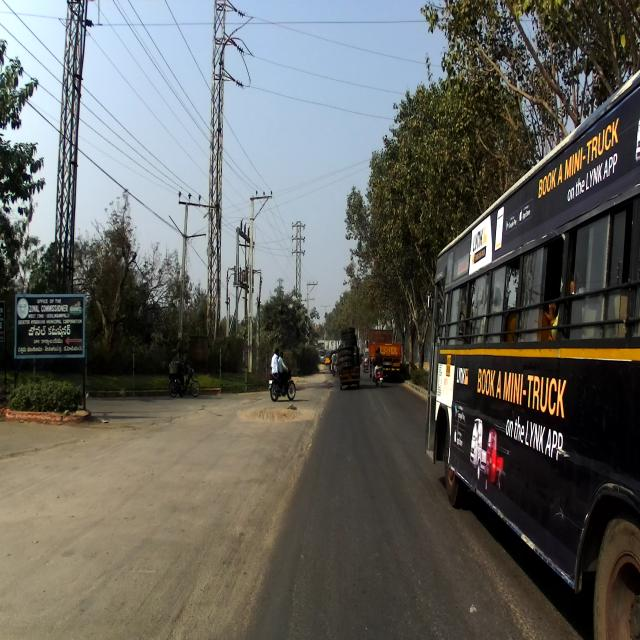bus ahead at: (420, 66, 639, 640)
